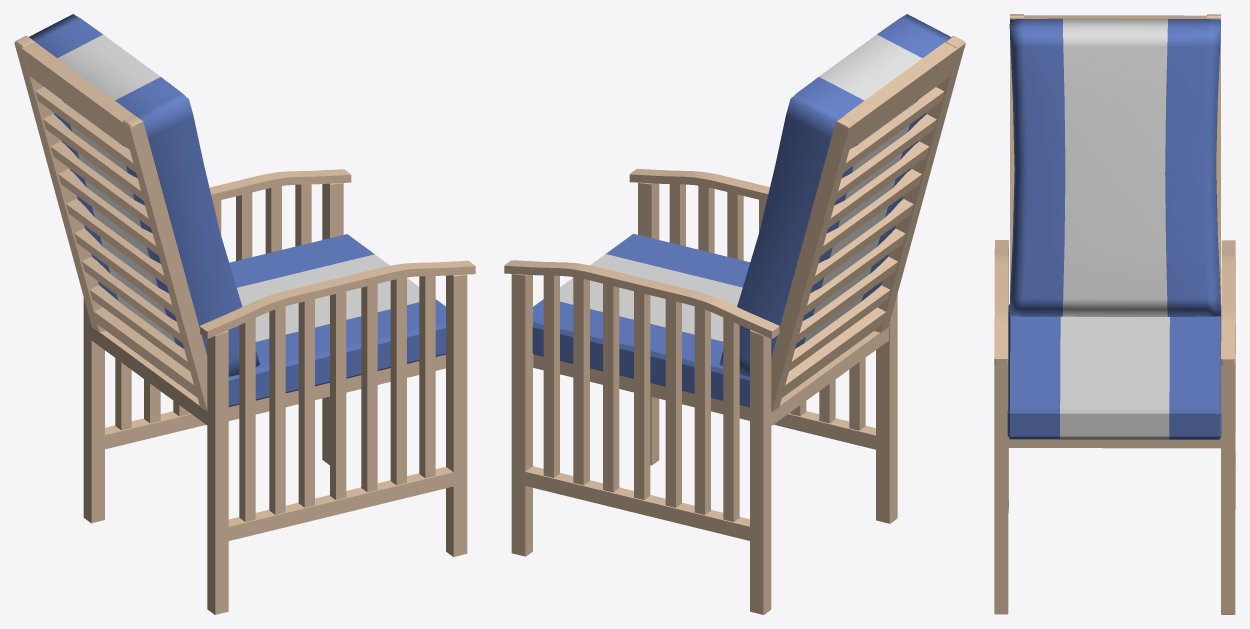
The model's file is WoodenChair_01 (Updated).fbx.
The picture shows the model from 3 angles, left to right: view 1: azimuth 30°, elevation 25°; view 2: azimuth 150°, elevation 25°; view 3: azimuth 270°, elevation 25°; orthographic projection. The views are drawn at different scales.
Visible parts, largest first — view 1: WoodenChair; view 2: WoodenChair; view 3: WoodenChair.
Boxes of the visible parts, x1=… form: WoodenChair: x1=14, y1=14, x2=475, y2=614; WoodenChair: x1=504, y1=14, x2=965, y2=614; WoodenChair: x1=994, y1=14, x2=1235, y2=614.
Bounding box in the file's own units: 8.35 × 12.17 × 5.69.
